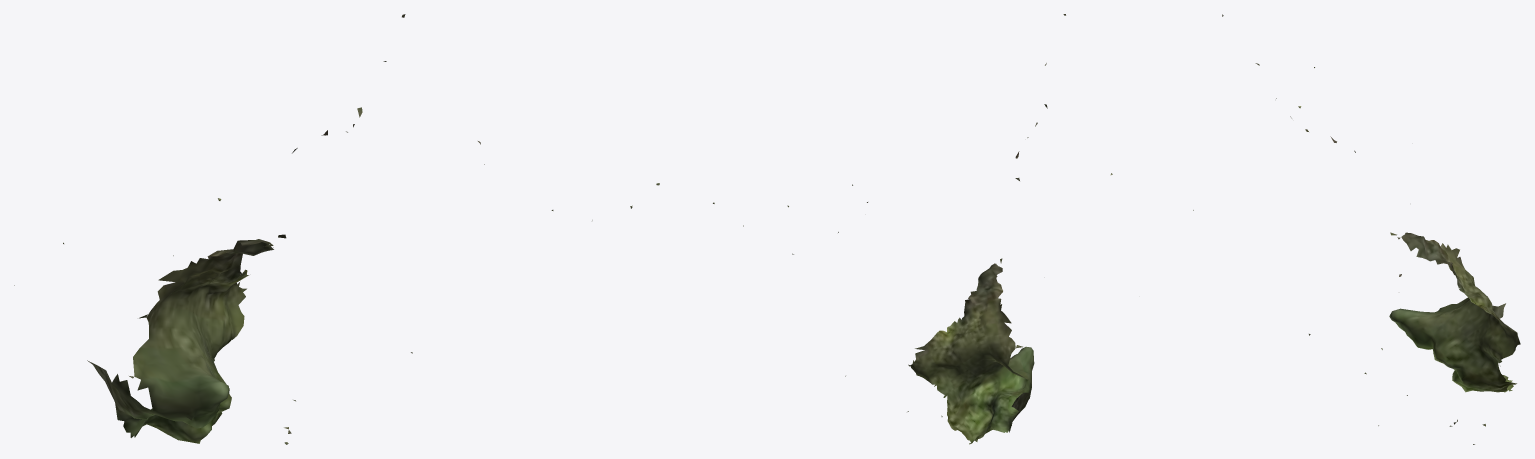
The picture shows the model from 3 angles, left to right: view 1: azimuth 30°, elevation 25°; view 2: azimuth 150°, elevation 25°; view 3: azimuth 270°, elevation 25°; orthographic projection. The views are drawn at different scales.
Bounding box in the file's own units: 7.31 × 5.58 × 3.8.
1 material, 1 textured.
